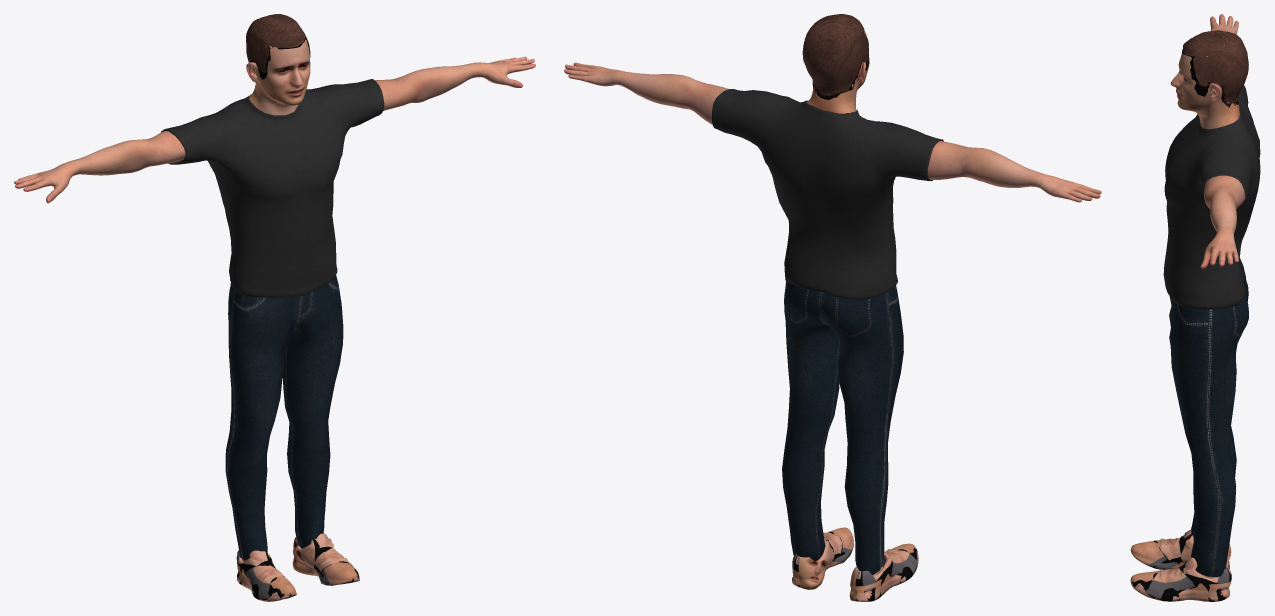
File: litvin.fbx
3 renders of one model, left to right at view 1: azimuth 30°, elevation 25°; view 2: azimuth 150°, elevation 25°; view 3: azimuth 270°, elevation 25°, orthographic. The views are drawn at different scales.
Visible parts, largest first — view 1: Look, body, shoes, hair; view 2: Look, body, hair, shoes; view 3: Look, body, shoes, hair.
Part boxes in pixels (box(x1,y1,x2,y2)): Look: box(161, 79, 384, 560); body: box(14, 39, 535, 561); shoes: box(236, 533, 359, 601); hair: box(246, 14, 310, 79); Look: box(712, 89, 943, 574); body: box(564, 30, 1101, 575); hair: box(802, 14, 869, 99); shoes: box(792, 527, 918, 601); Look: box(1163, 85, 1260, 576); body: box(1170, 14, 1245, 578); shoes: box(1130, 529, 1231, 601); hair: box(1182, 30, 1248, 107).
Size of the model in its own units: 183 by 187 by 40.1.
